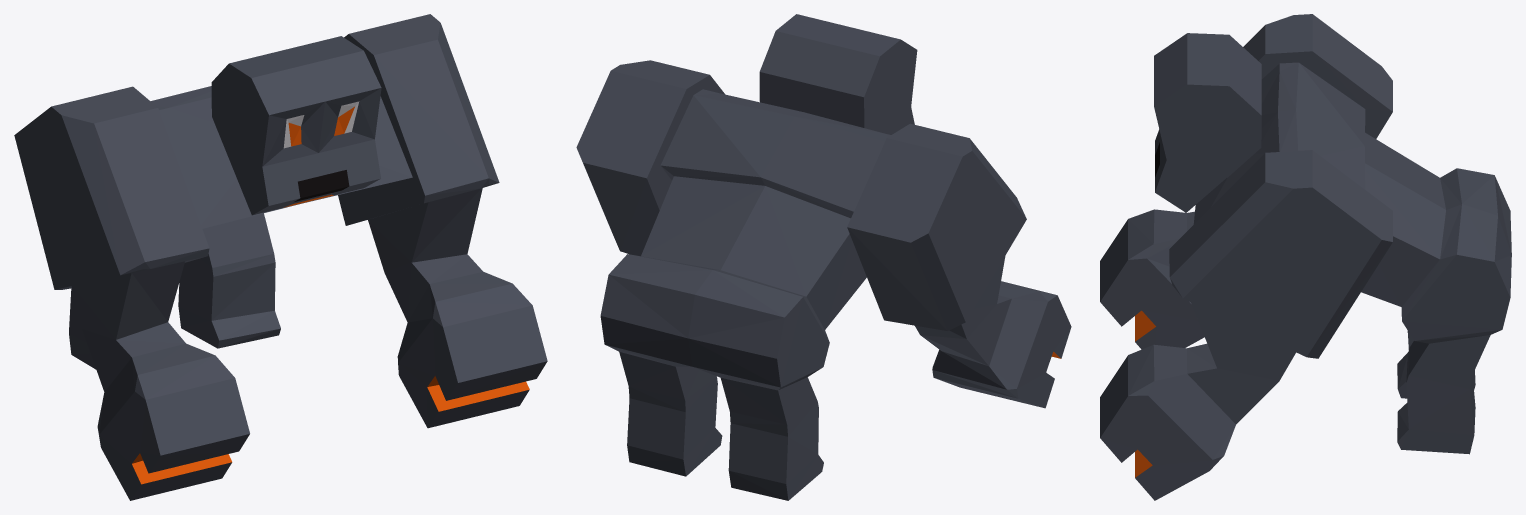
The model's file is kong_000019.obj.
The picture shows the model from 3 angles, left to right: view 1: azimuth 30°, elevation 25°; view 2: azimuth 150°, elevation 25°; view 3: azimuth 270°, elevation 25°; orthographic projection. The views are drawn at different scales.
Parts seen in each view (by area): view 1: Cube; view 2: Cube; view 3: Cube.
Part boxes in pixels (box(x1,y1,x2,y2)): Cube: box(14, 14, 547, 500); Cube: box(576, 14, 1071, 500); Cube: box(1100, 14, 1511, 500).
Size of the model in its own units: 5.84 by 5.45 by 5.7.
Materials: 1 (1 with a texture image).
